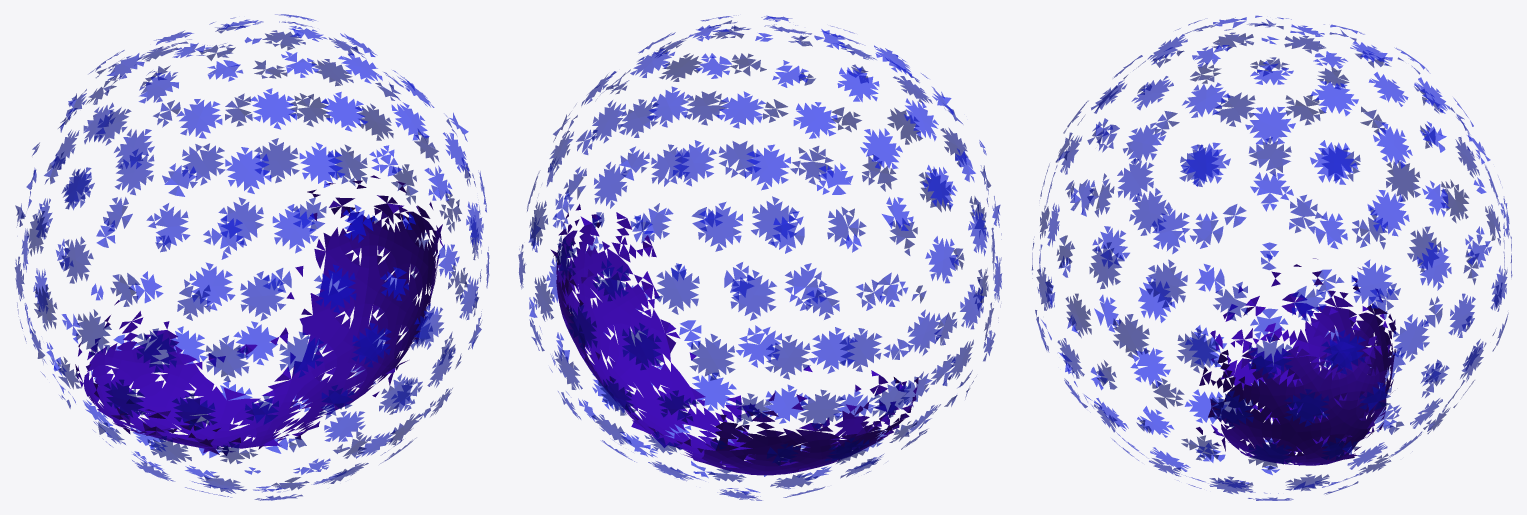
Rendered from wbc.glb.
3 renders of one model, left to right at view 1: azimuth 30°, elevation 25°; view 2: azimuth 150°, elevation 25°; view 3: azimuth 270°, elevation 25°, orthographic.
Visible parts, largest first — view 1: Object_4; view 2: Object_4; view 3: Object_4.
Boxes of the visible parts, x1,y1,x2,y2 form: Object_4: (15,14,489,500); Object_4: (518,16,1001,500); Object_4: (1032,15,1512,500).
Size of the model in its own units: 0.9867 by 1 by 0.9945.
